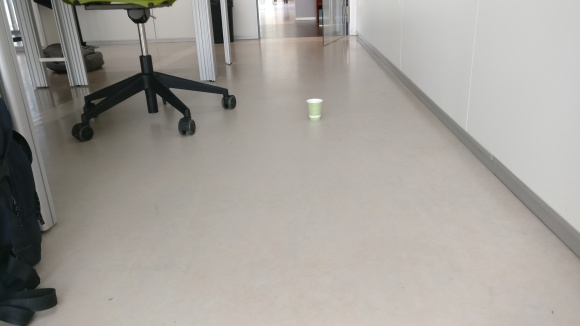cup: (305, 97, 323, 121)
